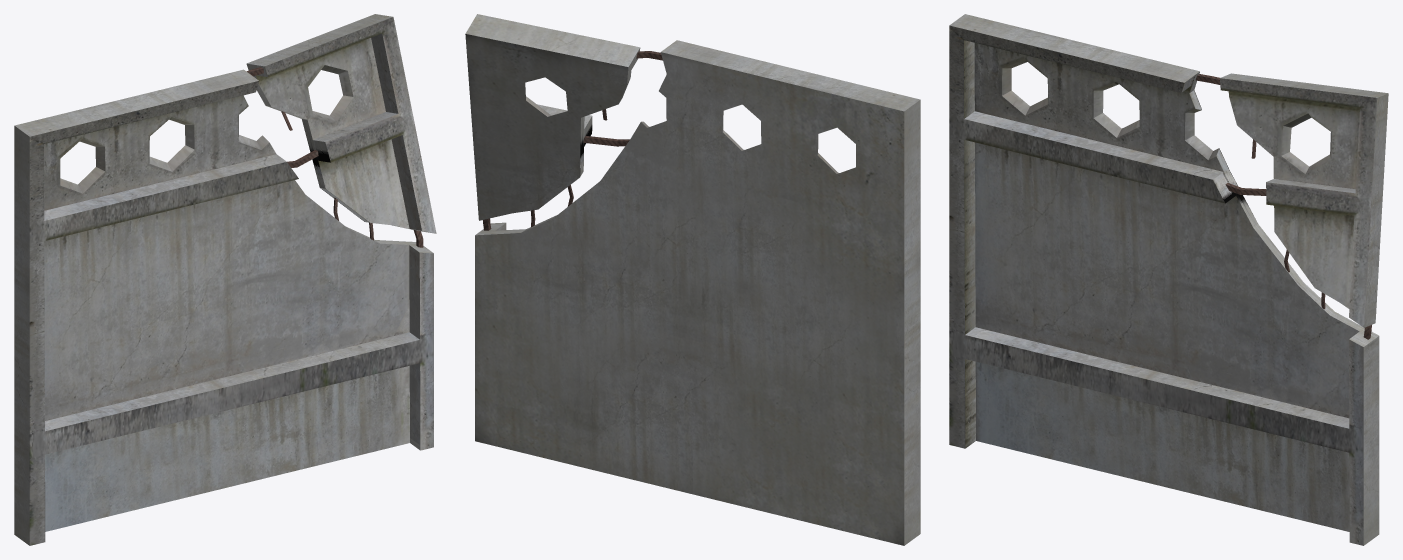
3 renders of one model, left to right at view 1: azimuth 30°, elevation 25°; view 2: azimuth 150°, elevation 25°; view 3: azimuth 330°, elevation 25°, orthographic. The views are drawn at different scales.
Visible parts, largest first — view 1: Zabor_05; view 2: Zabor_05; view 3: Zabor_05.
Boxes of the visible parts, x1,y1,x2,y2 form: Zabor_05: (14,14,436,545); Zabor_05: (465,14,920,545); Zabor_05: (949,14,1388,545).
Bounding box in the file's own units: 215 × 209 × 39.23.
